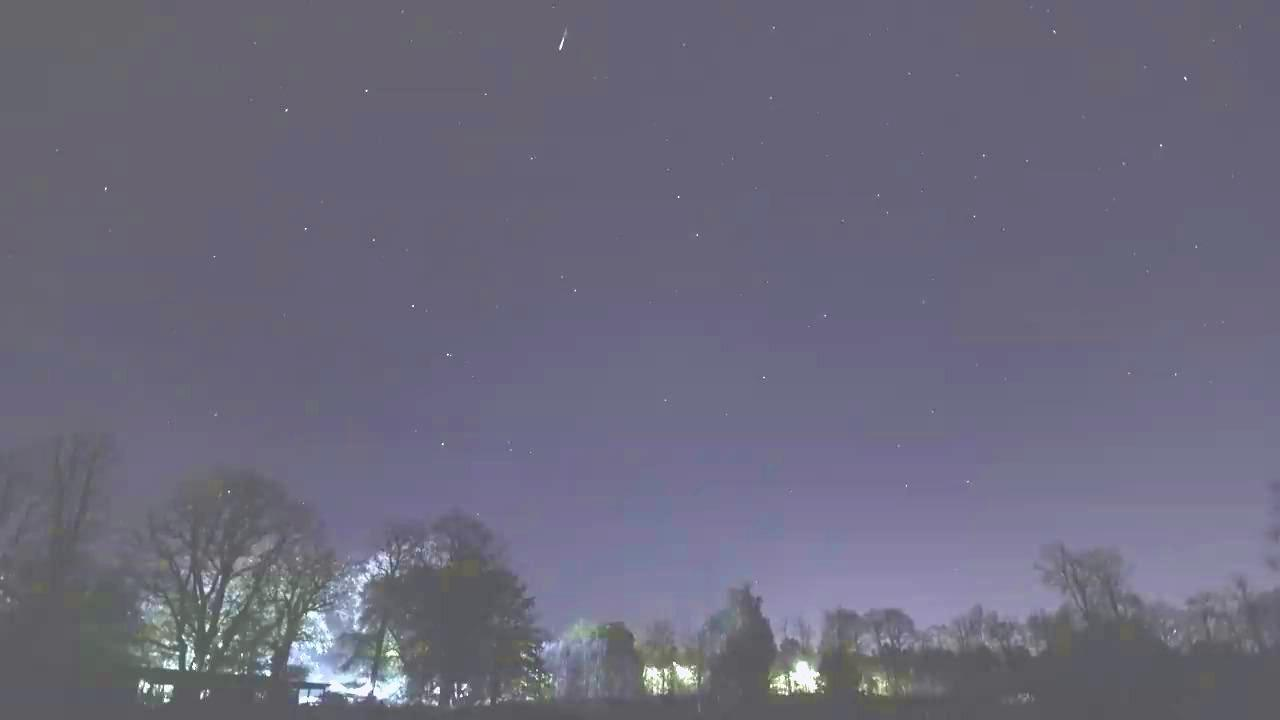meteorite: (521, 24, 608, 56)
